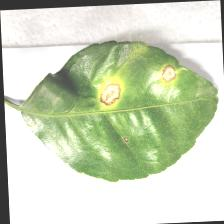canker: (87, 58, 181, 108)
